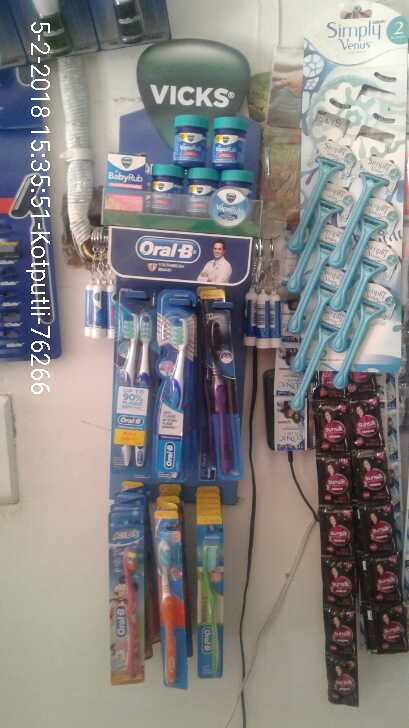pharmacy: (115, 288, 160, 480), (199, 294, 243, 482), (108, 509, 148, 688), (154, 293, 190, 482), (151, 513, 189, 691), (193, 514, 227, 679), (105, 151, 146, 213), (212, 116, 248, 170), (172, 112, 208, 166), (149, 160, 182, 215), (184, 165, 218, 218)
